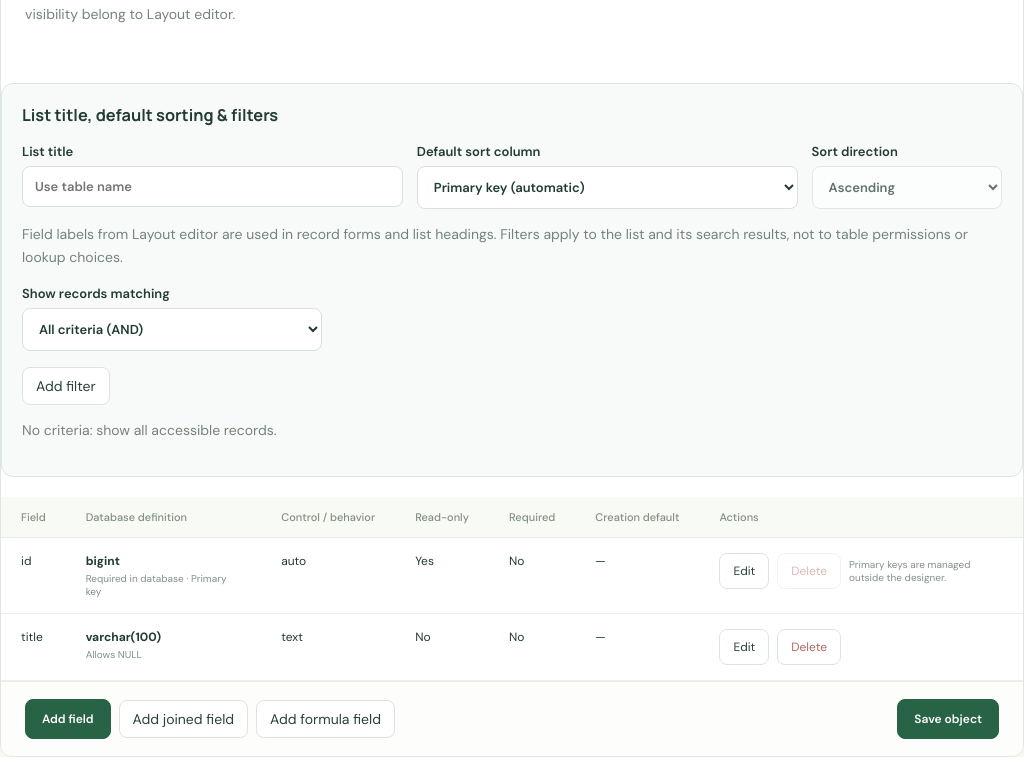
Test: Object field workflow › creates database fields from control choices without a type dropdown
(page scrolled)
Expected: the text "varchar(100)" is shown, [86,629,161,645]
Click the button "Add field" at (68, 719), box [25,699,111,739]
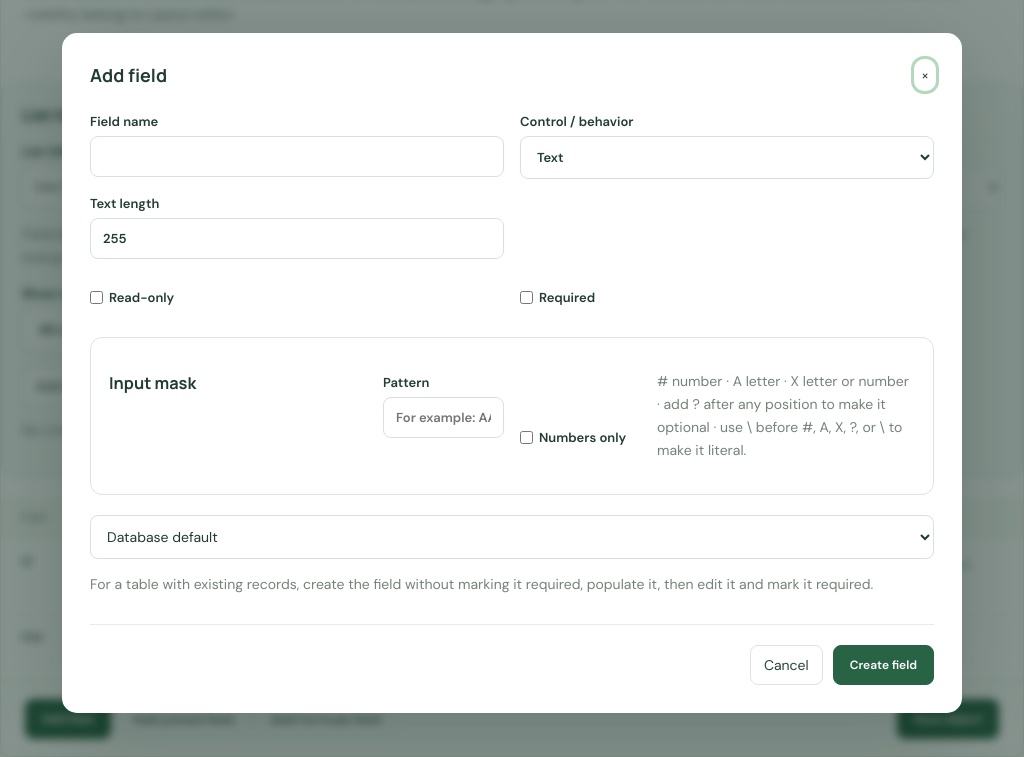
Result: the dialog "Add field" is shown
Type "enabled" into the field labelled "Field name" at (297, 156), box [90,136,504,177]
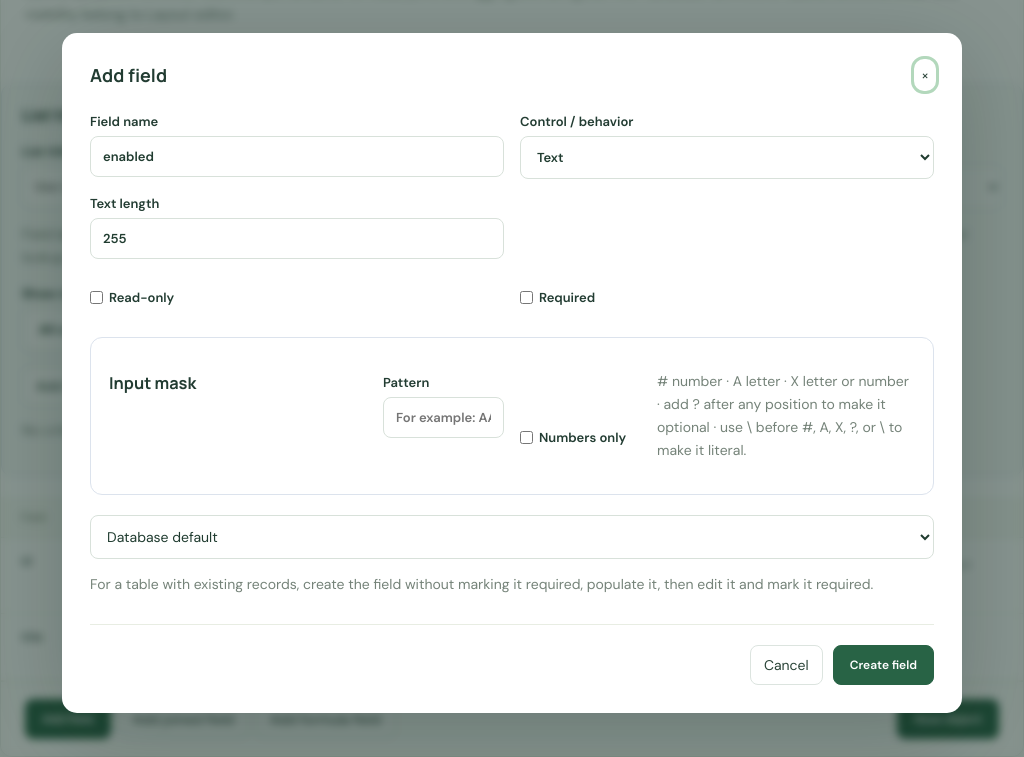
Select "Checkbox" in the dropdown labelled "Control / behavior" at (727, 157), box [520,136,934,179]
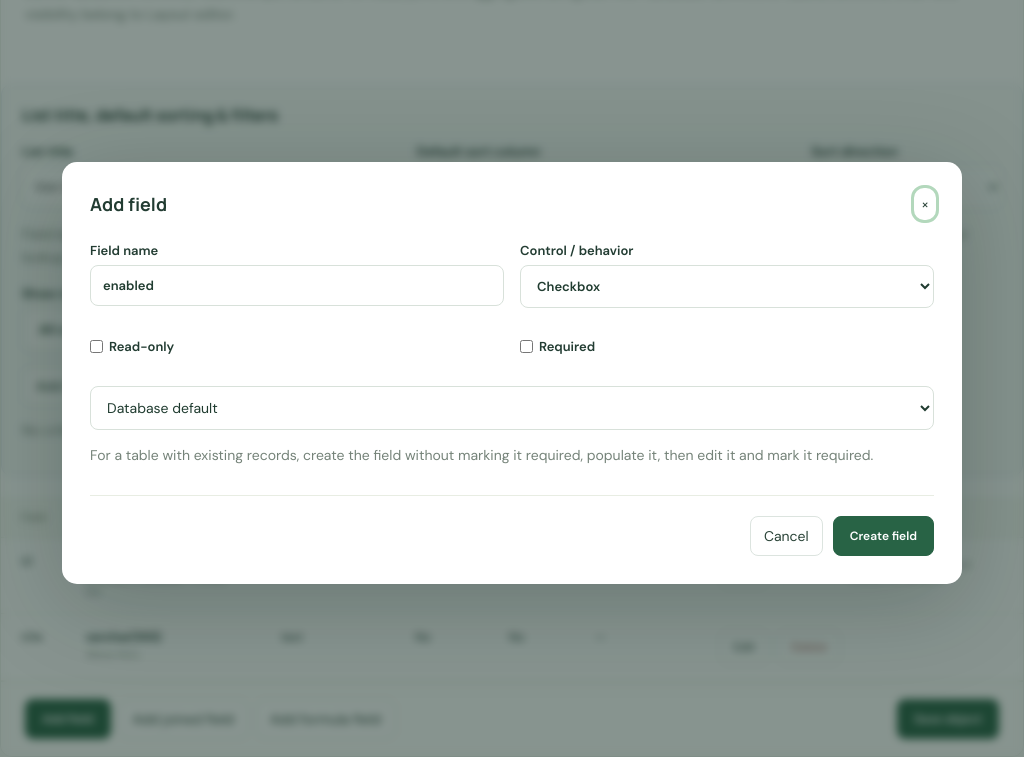
Click the button "Create field" at (883, 536), box [833,516,934,556]
(page scrolled)
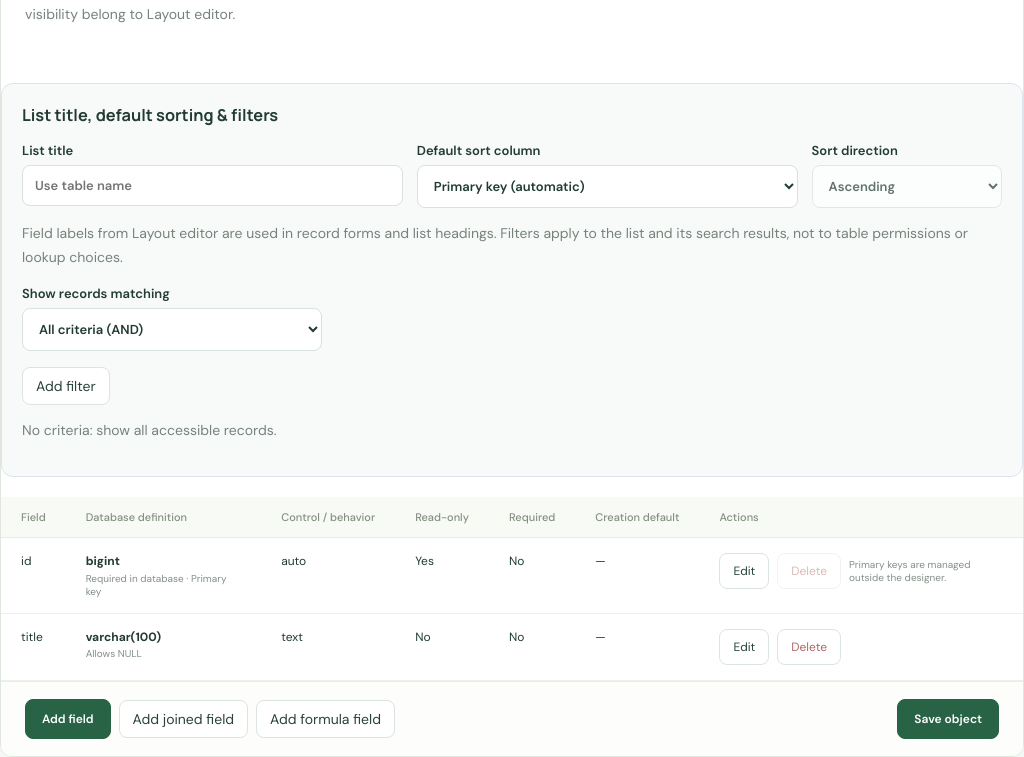
Result: the dialog is gone
